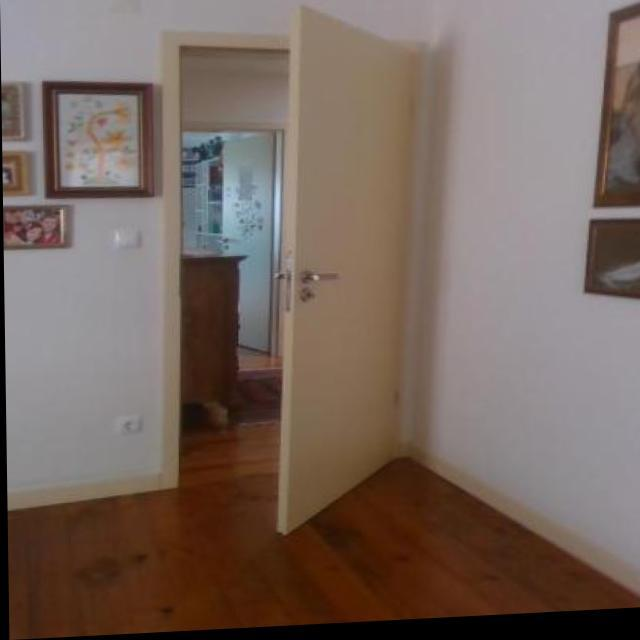door_handle: (301, 268, 349, 296)
